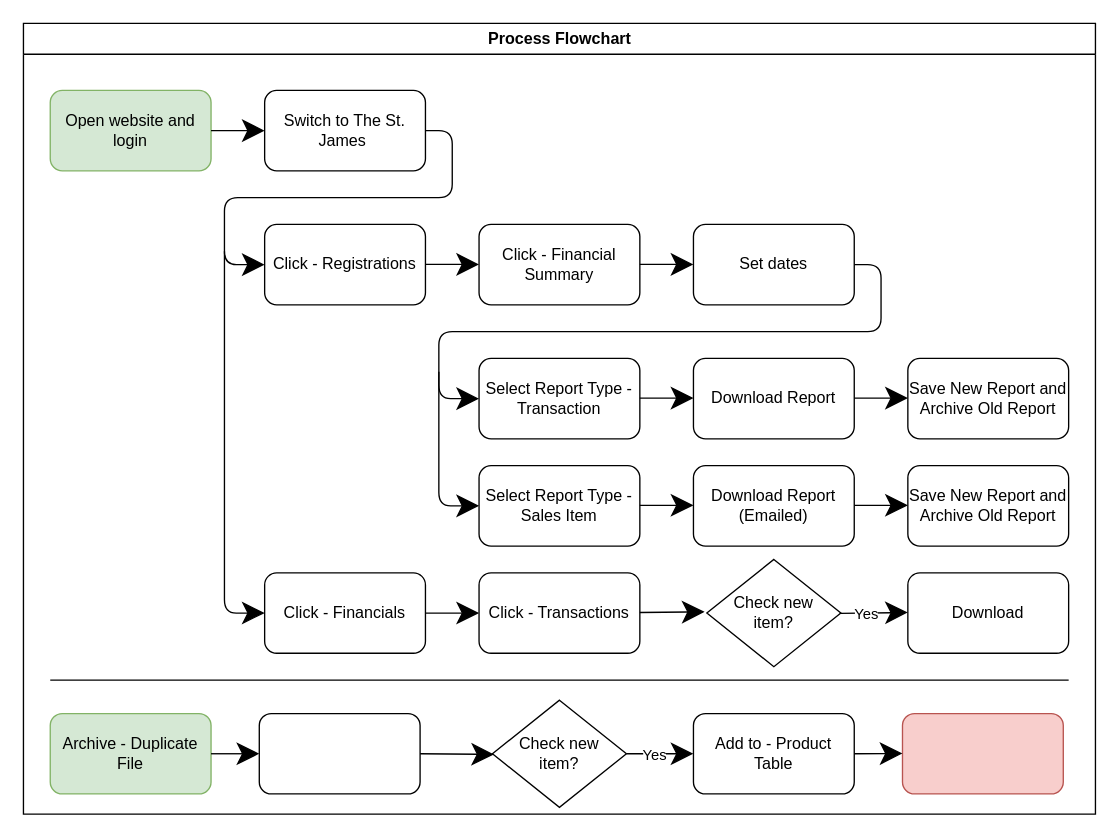
Image size: 1119x838. Some labels were removed from this diagram. Each missing label, with the box of its shape:
Run - Workflow: (258, 712, 420, 794)
The End of Process: (901, 712, 1063, 794)
